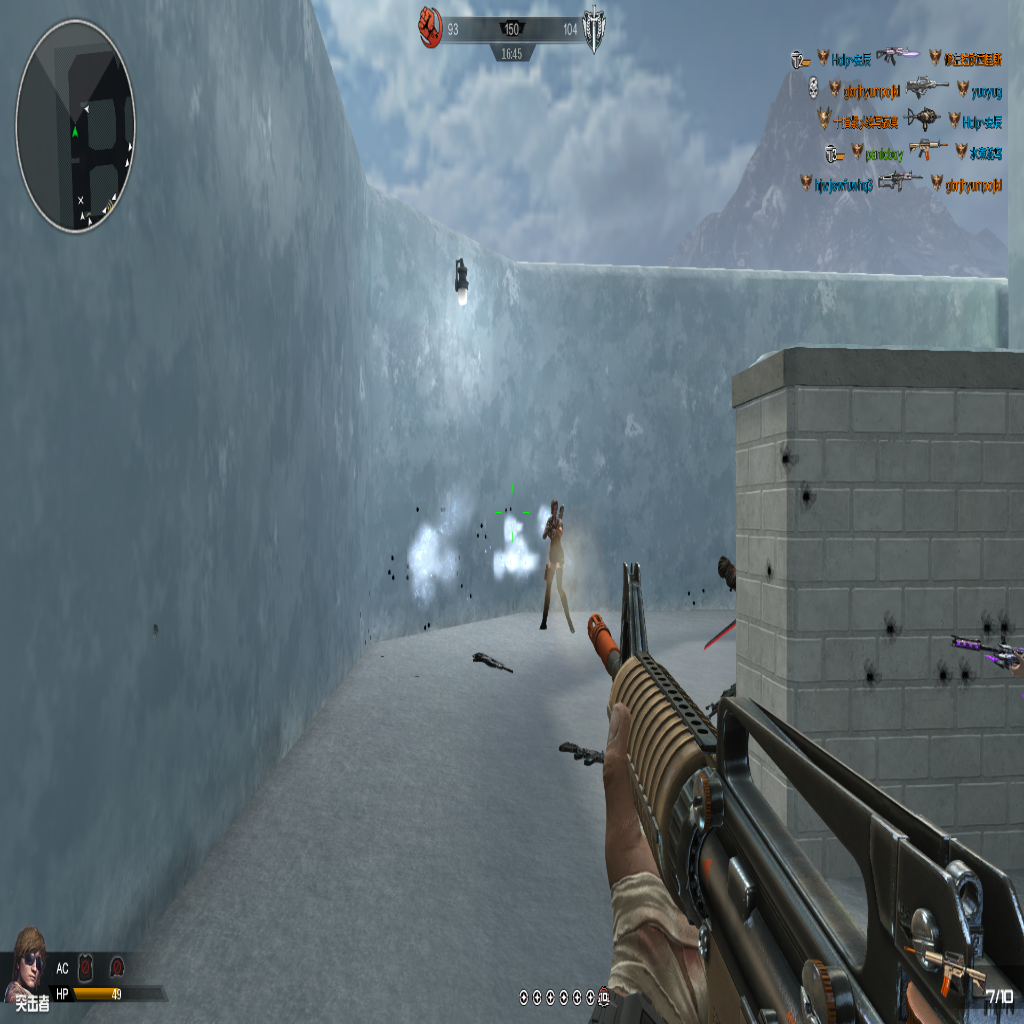ct: (538, 494, 572, 637)
